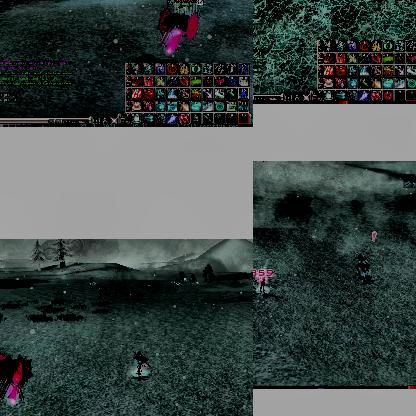caliana: (353, 252, 373, 284), (97, 286, 109, 300), (403, 174, 415, 188), (88, 278, 96, 286), (166, 282, 170, 290), (175, 278, 179, 286)
